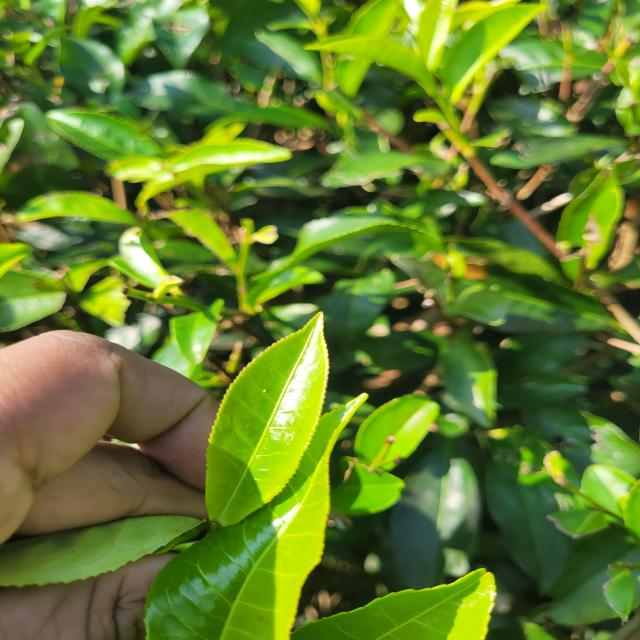Catagory A(1-2 days): (206, 304, 336, 528)
